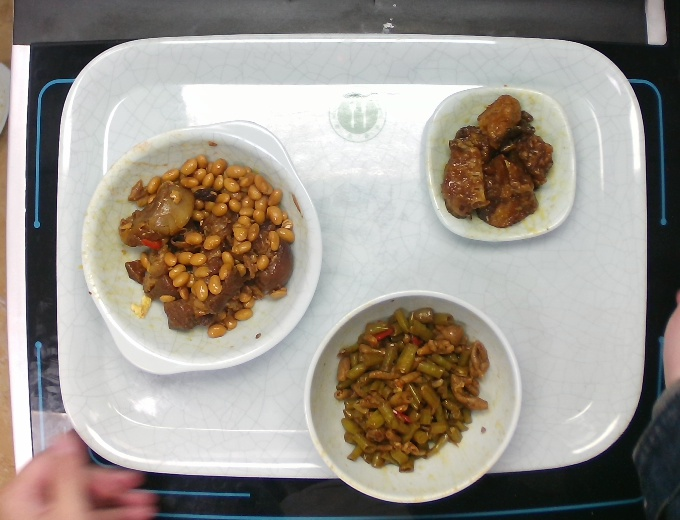JYsf-Fan_Wan: (300, 281, 528, 511)
JYsf-Shuang_Er_Wan: (80, 111, 329, 384)
JYsf-Si_Fang_Die: (416, 81, 580, 242)
